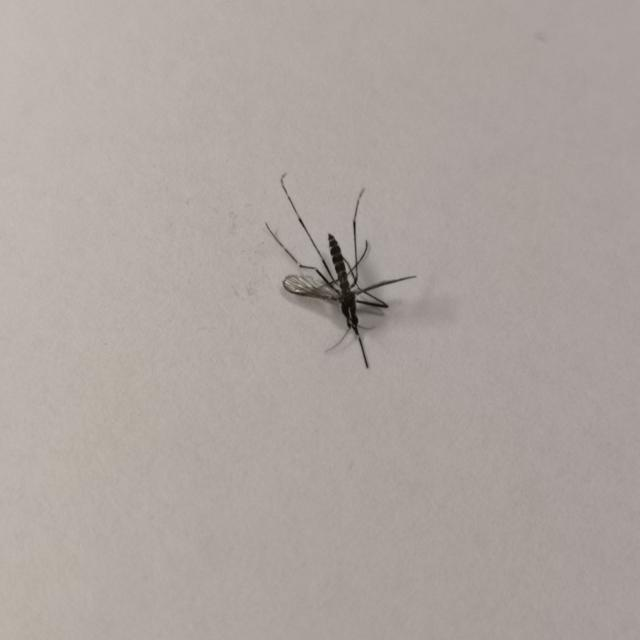albopictus: (256, 166, 422, 372)
